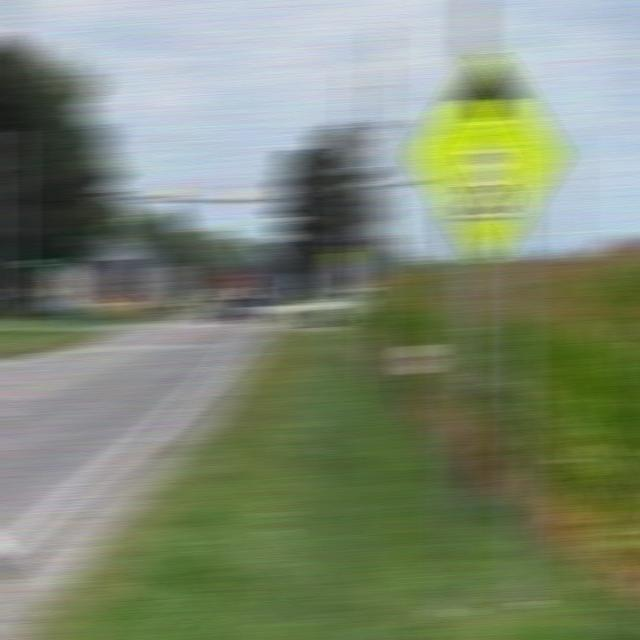speedLimit20: (459, 144, 514, 226)
